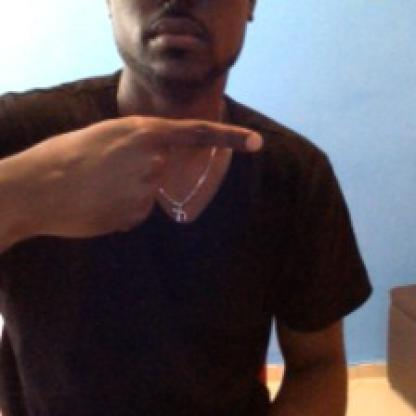TURN LEFT: (5, 102, 291, 252)
